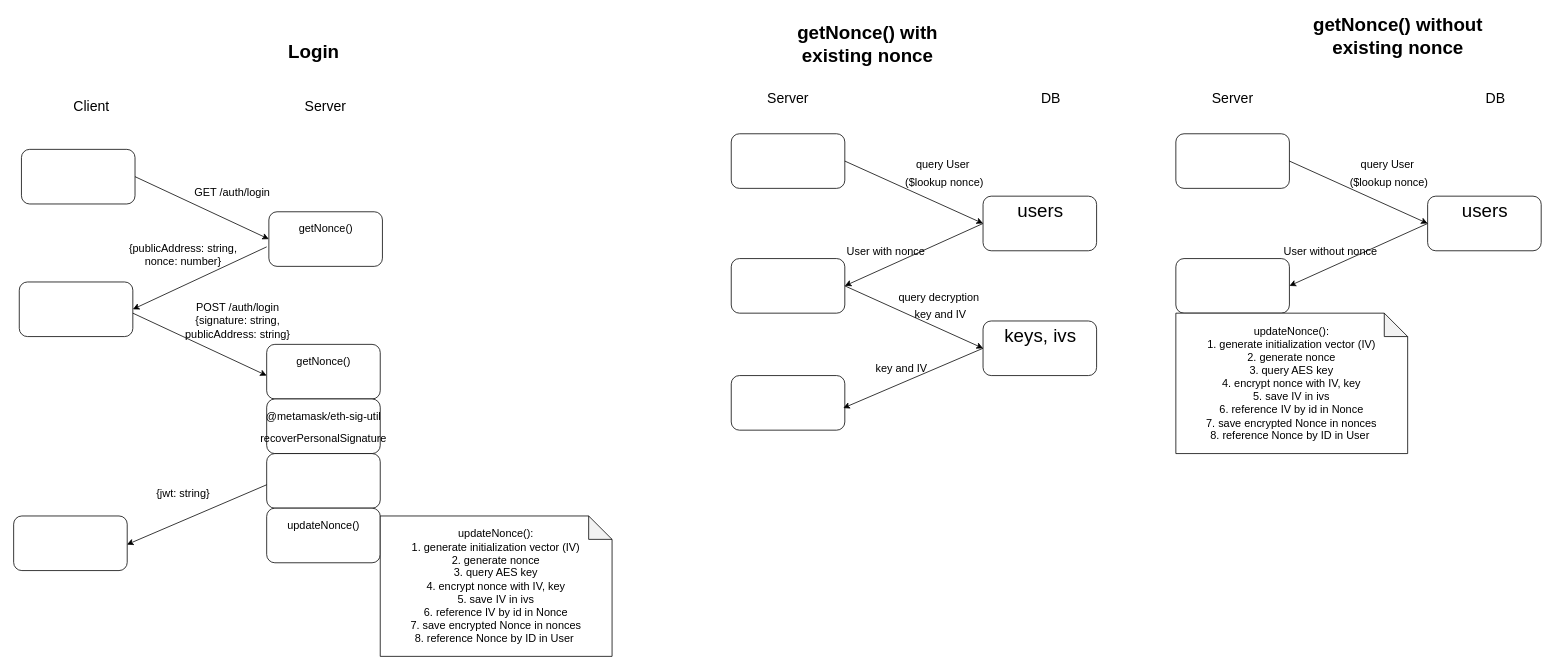
The diagram is 1555 pixels wide and 670 high, and some of its shapes have lost their labels. The shapes that lost their labels are listed below. From the top down, each one's centre as x and y in pixels, then its label:
At (x=78, y=176): "get publicAdress from Metamask extension".
At (x=1232, y=285): "updateNonce() (returns new Nonce)".
At (x=75, y=309): "sign nonce with ethereum personal_sign".
At (x=787, y=402): "return decrypt nonce (AES-CBC)".
At (x=323, y=480): "recovered== req.publicAddress".
